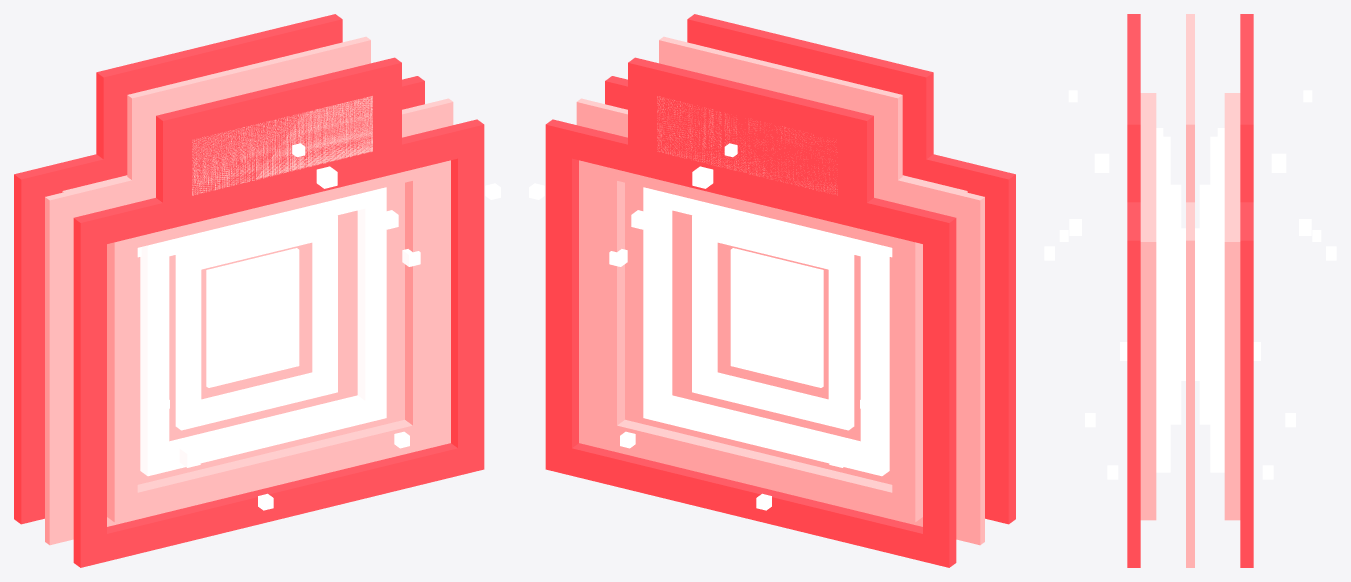
Rendered from tt-portal-red.glb.
3 renders of one model, left to right at view 1: azimuth 30°, elevation 25°; view 2: azimuth 150°, elevation 25°; view 3: azimuth 270°, elevation 25°, orthographic. The views are drawn at different scales.
Parts seen in each view (by area): view 1: box-prop; view 2: box-prop; view 3: box-prop.
Part boxes in pixels (left/top/right/bottom): box-prop: left=14, top=14, right=500, bottom=567; box-prop: left=529, top=14, right=1015, bottom=567; box-prop: left=1044, top=14, right=1336, bottom=567.
Bounding box in the file's own units: 4.9 × 4.95 × 3.24.
